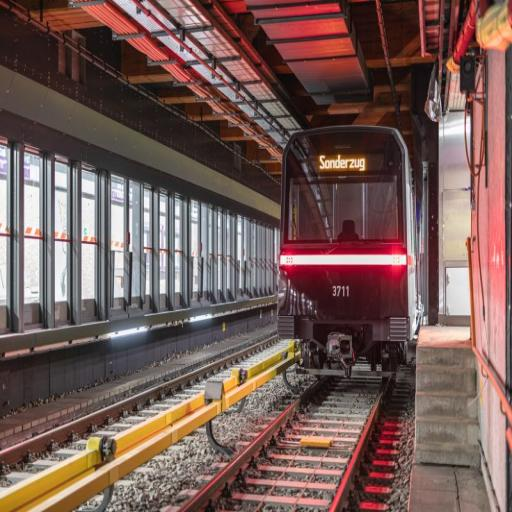X-Wagen: (279, 122, 424, 341)
